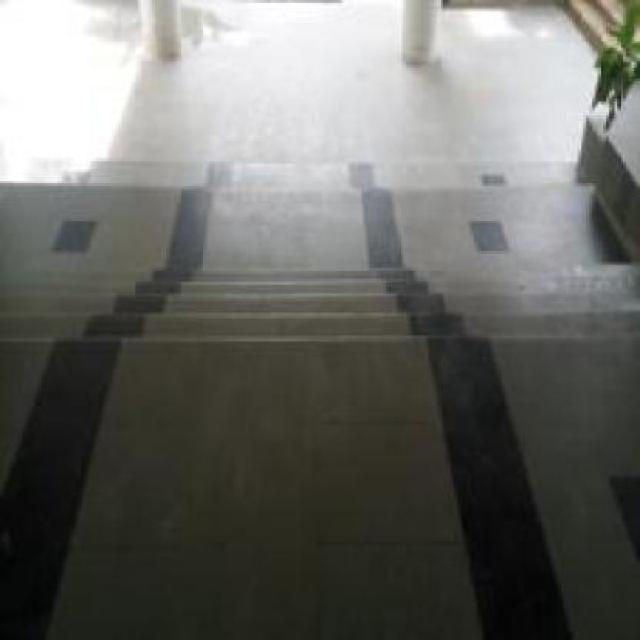stair: (94, 231, 545, 386)
